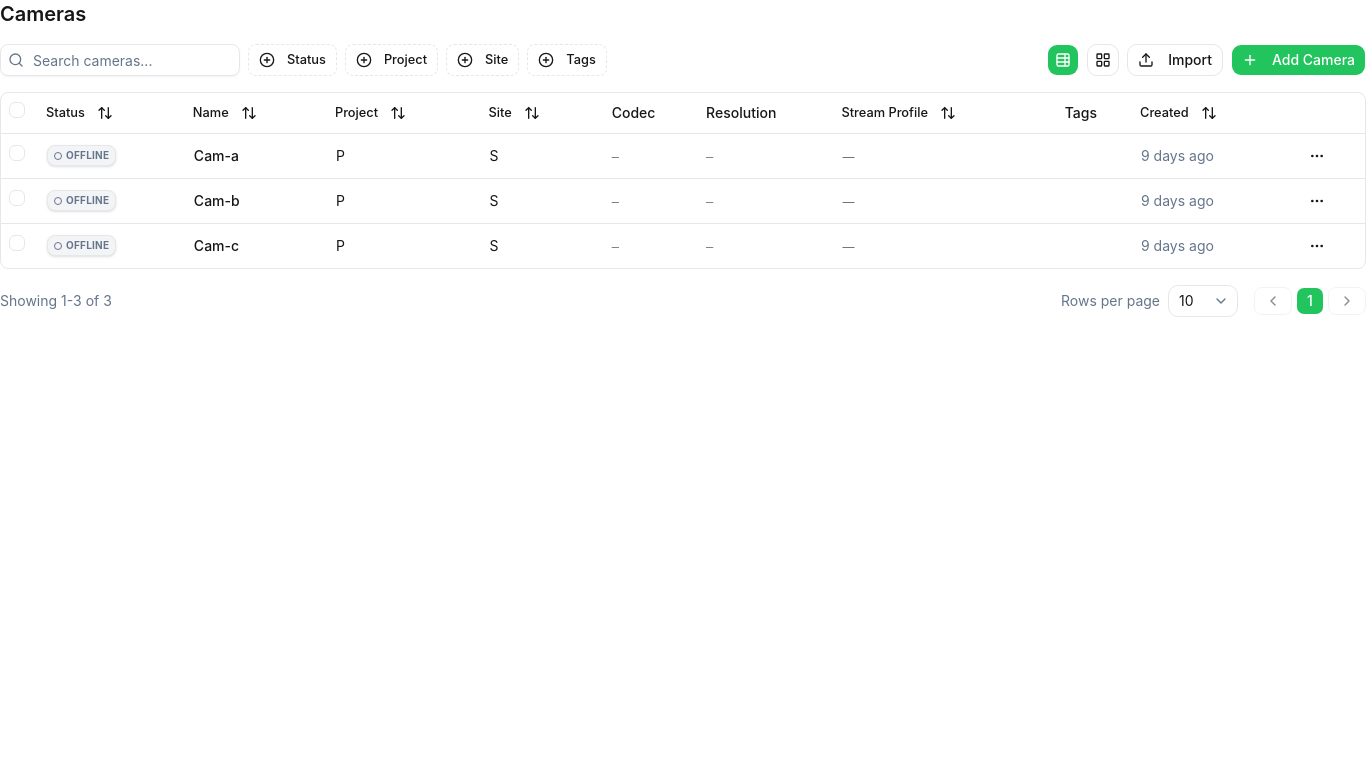
Test: TenantCamerasPage — delete confirm (D-06b) › Delete button opens AlertDialog with count in title
Expected: the text "Cam-a" is shown, [194,146,239,164]
Expected: the text "Cam-b" is shown, [194,192,240,208]
Click the checkbox named "Select camera Cam-a". click: {"x": 17, "y": 153}
box: [9,145,25,161]
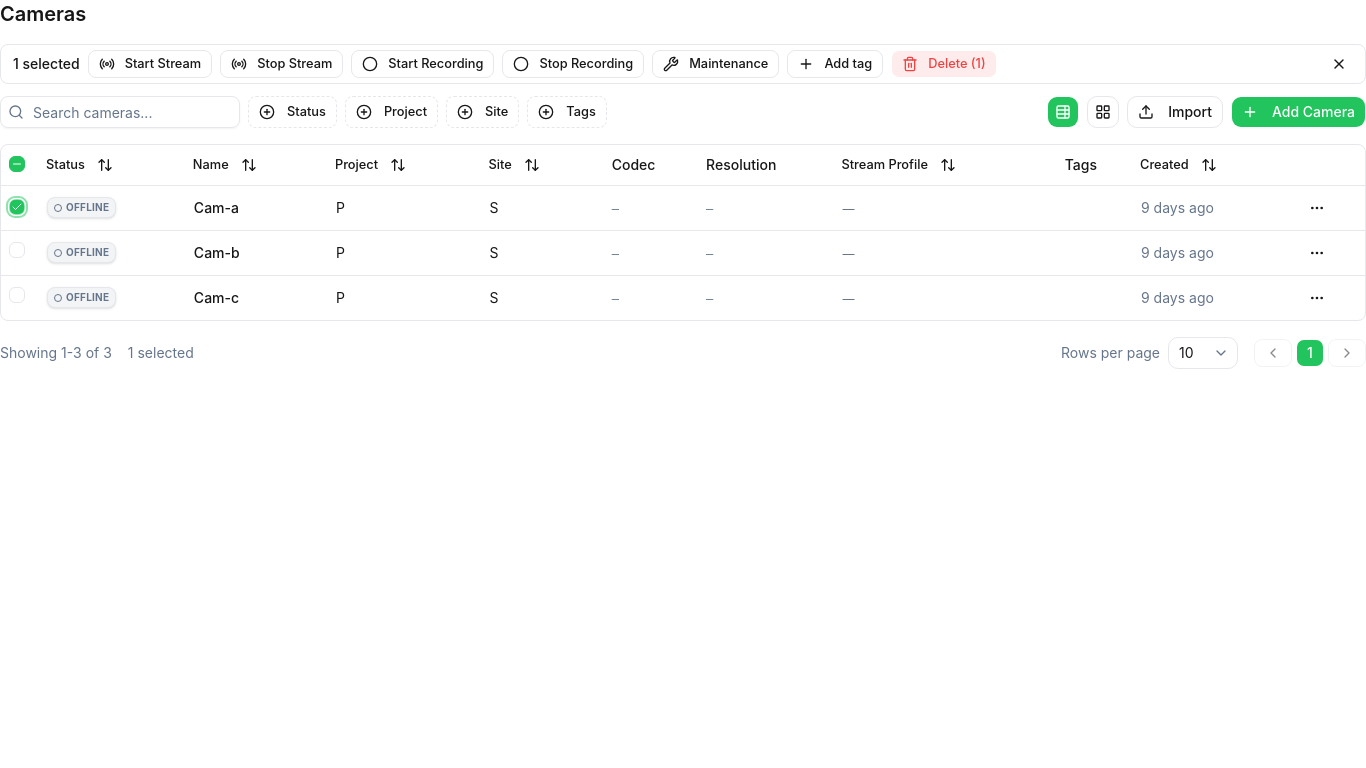
Click the checkbox named "Select camera Cam-b". click: {"x": 17, "y": 250}
box: [9,242,25,258]
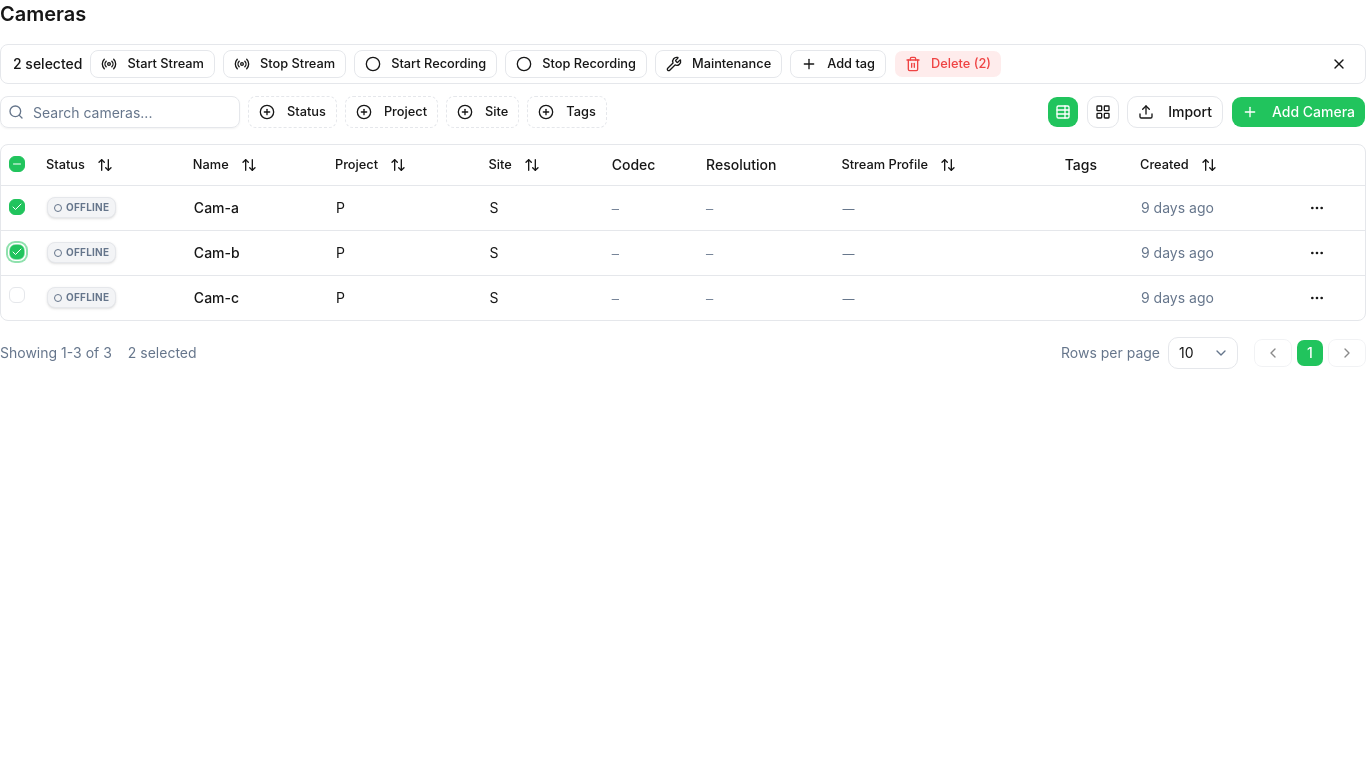
Click the checkbox named "Select camera Cam-c". click: {"x": 17, "y": 295}
box: [9,287,25,303]
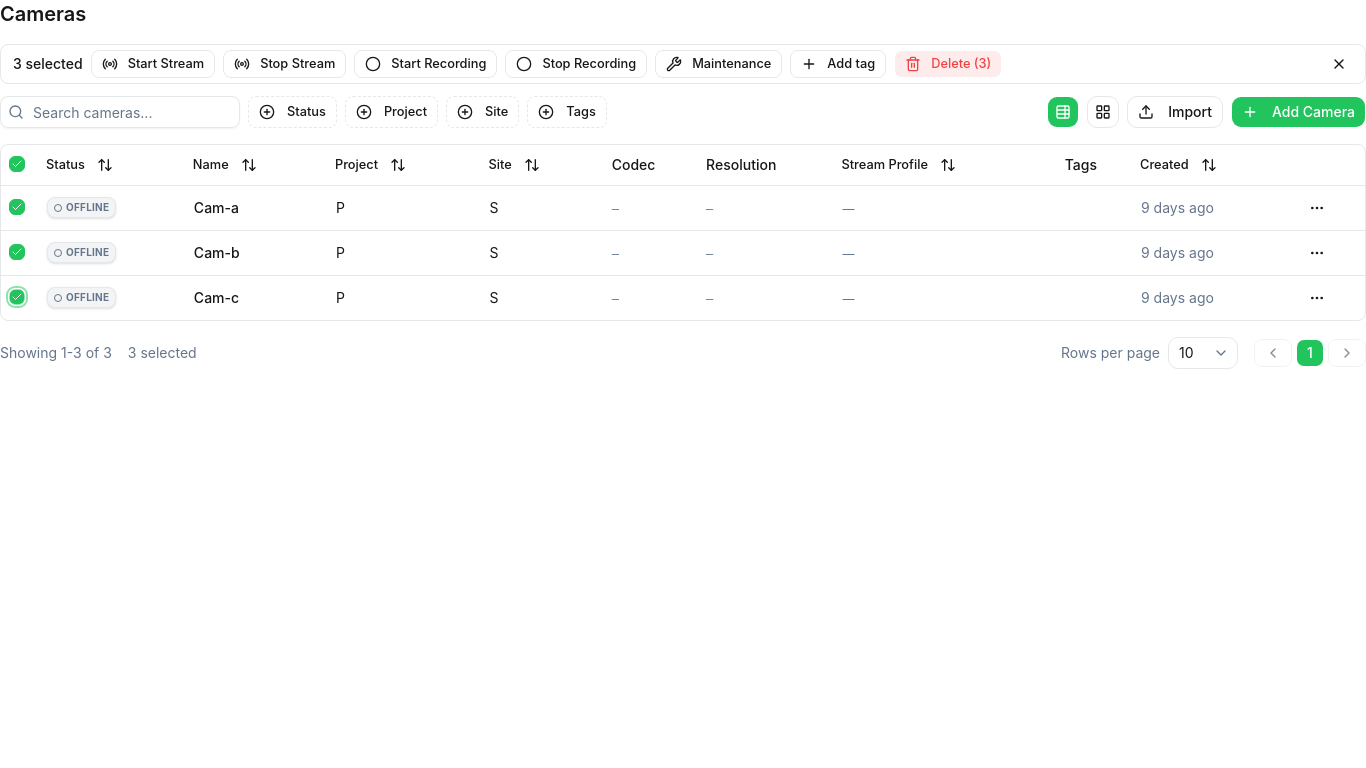
Click the button "Delete (3)". click: {"x": 948, "y": 64}
box: [894,50,1002,78]
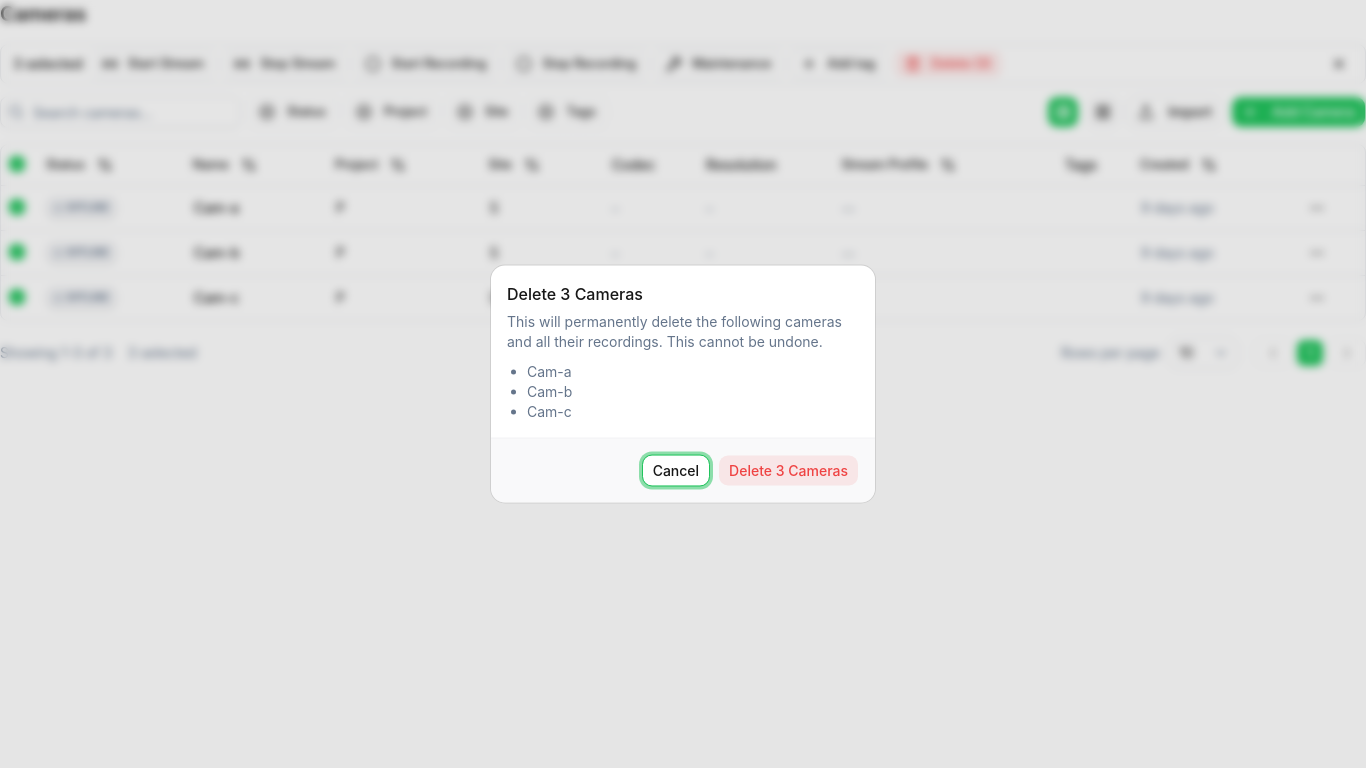
Expected: the heading "Delete 3 Cameras" is shown, [507,282,643,306]
